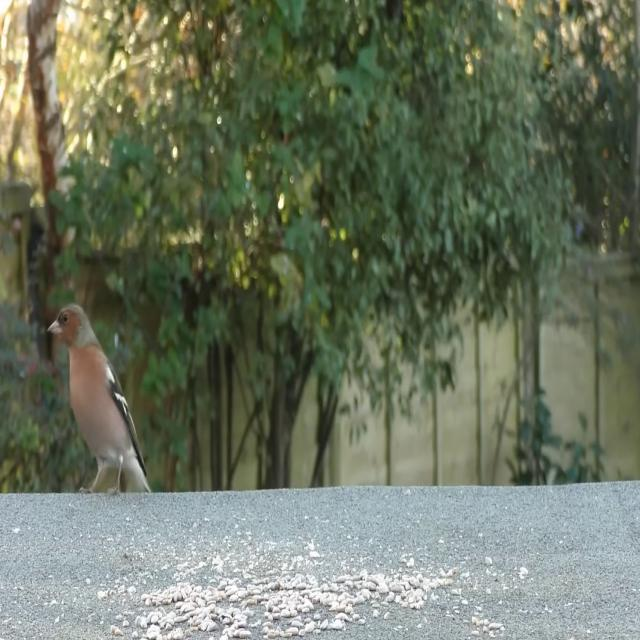beak: (45, 317, 62, 335)
bird: (44, 294, 154, 504)
